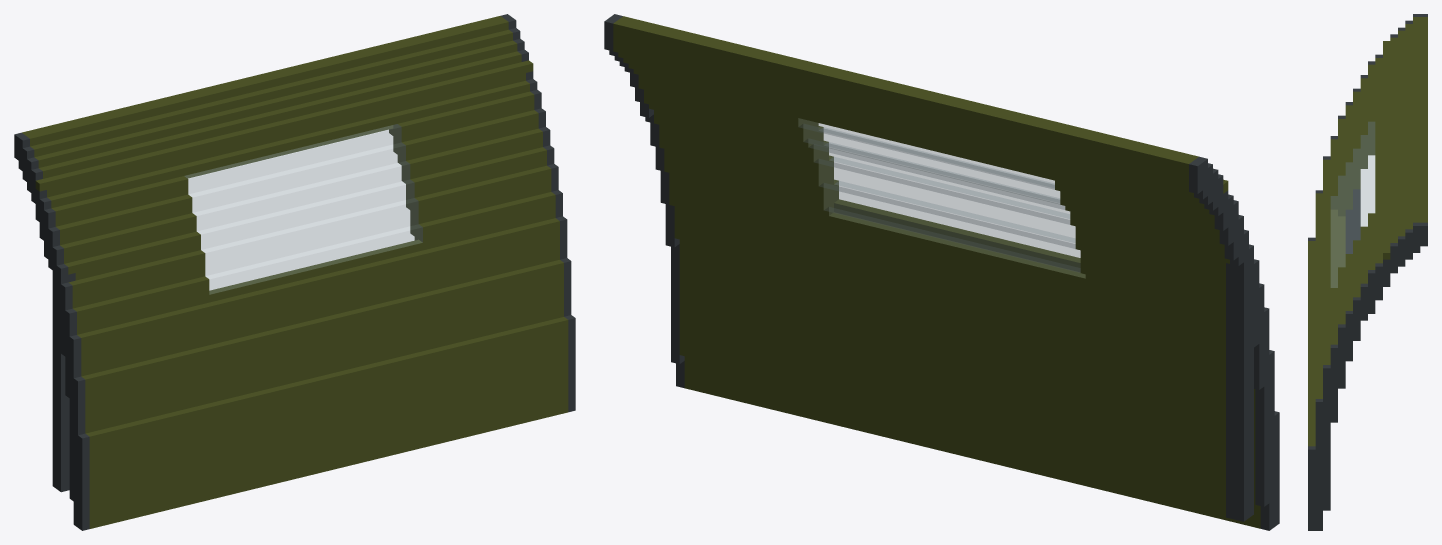
Rendered from military_transport_helicopter_cabin_door.glb.
3 views of the same model, side by side, from view 1: azimuth 30°, elevation 25°; view 2: azimuth 150°, elevation 25°; view 3: azimuth 270°, elevation 25° (orthographic). The views are drawn at different scales.
Parts seen in each view (by area): view 1: body:compound; view 2: body:compound; view 3: body:compound.
Part boxes in pixels (x1,y1,x2,y2): body:compound: (14, 14, 575, 530); body:compound: (604, 14, 1279, 530); body:compound: (1308, 14, 1427, 530).
Size of the model in its own units: 2.09 by 1.41 by 0.5.
